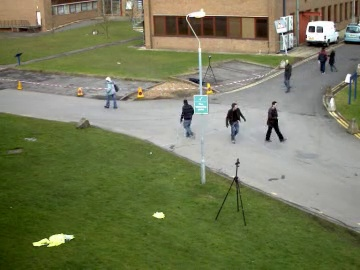person: (262, 99, 280, 141), (265, 100, 281, 142), (105, 78, 120, 108)
